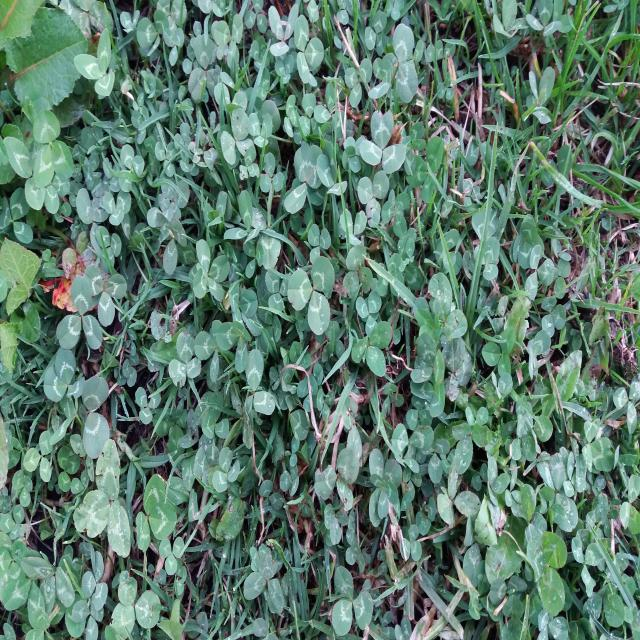Four Leaf Clover: (193, 239, 230, 302)
